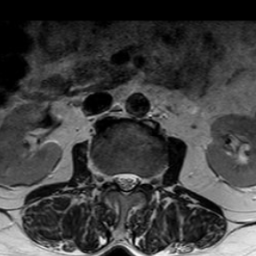CCS_normal: (122, 164, 130, 203)
LFS_normal: (140, 165, 151, 195)
LLS_stenosis: (130, 164, 140, 197)
RFS_normal: (103, 163, 113, 194)
RLS_normal: (112, 165, 122, 194)
